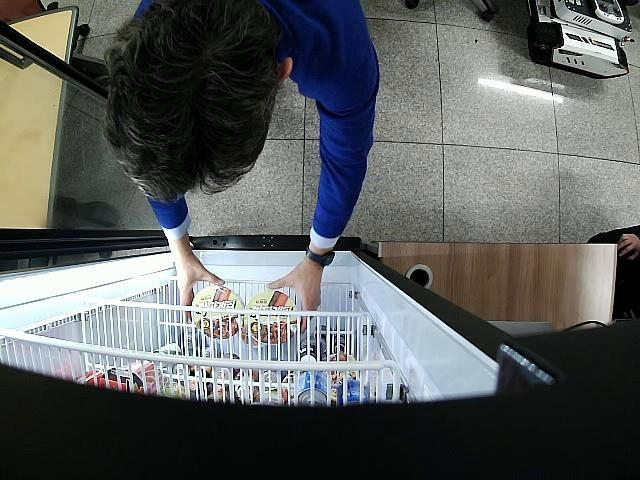03_chapagetti_L: (245, 290, 298, 345), (190, 287, 243, 339)
